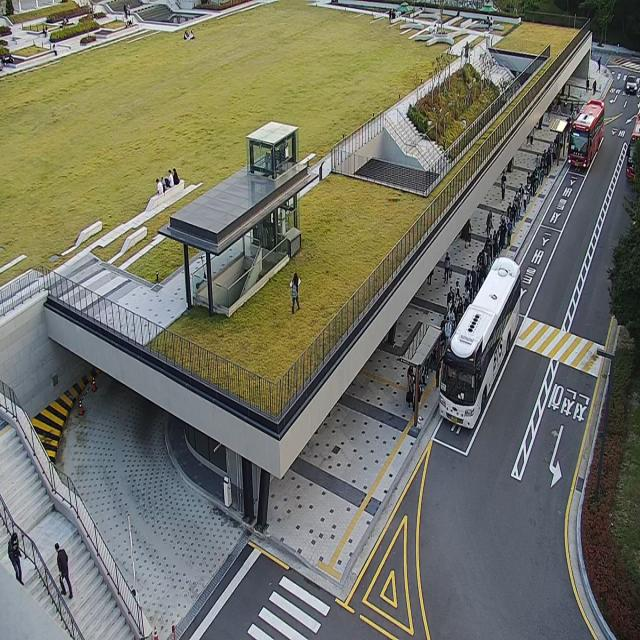queue: (416, 100, 580, 426)
